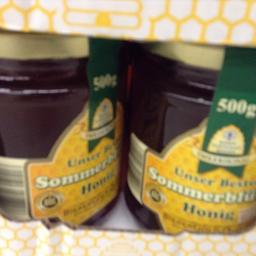honey: (0, 31, 125, 233), (130, 44, 255, 236)
